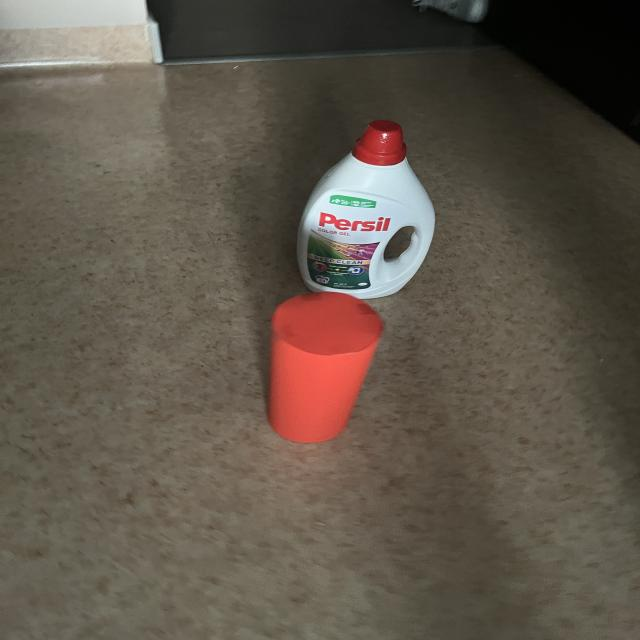przeszkoda: (268, 292, 383, 443)
